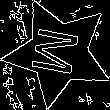M_E: (29, 25, 88, 81)
